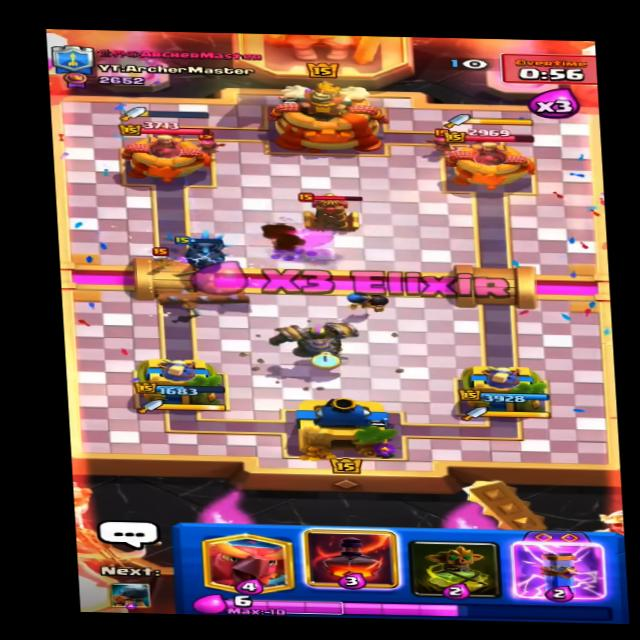archer: (416, 130, 460, 151), (191, 128, 229, 152)
log: (147, 285, 256, 308)
skeleton: (149, 242, 178, 270)
tesla: (298, 193, 369, 235)
